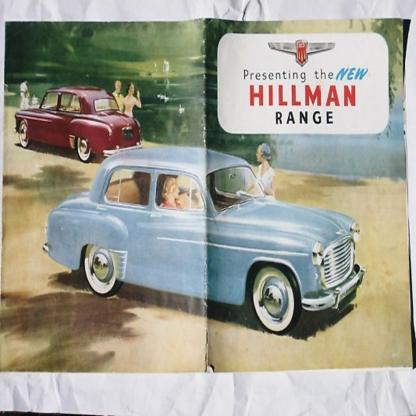Car: (44, 144, 370, 337), (17, 88, 142, 165)
